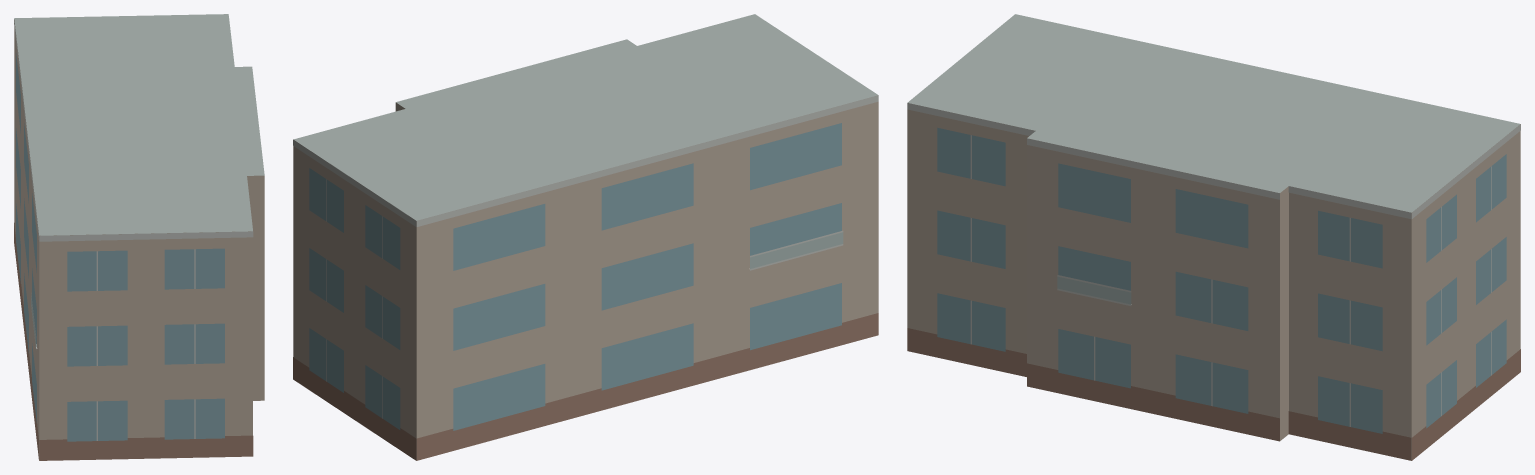
The model's file is survey-upis-32913197.glb.
The picture shows the model from 3 angles, left to right: view 1: azimuth 30°, elevation 25°; view 2: azimuth 150°, elevation 25°; view 3: azimuth 270°, elevation 25°; orthographic projection. The views are drawn at different scales.
Visible parts, largest first — view 1: survey-upis-32913197.tmp; view 2: survey-upis-32913197.tmp; view 3: survey-upis-32913197.tmp.
Boxes of the visible parts, x1=… form: survey-upis-32913197.tmp: x1=14, y1=14, x2=264, y2=460; survey-upis-32913197.tmp: x1=293, y1=14, x2=878, y2=460; survey-upis-32913197.tmp: x1=907, y1=14, x2=1520, y2=460.
Bounding box in the file's own units: 15.72 × 9.15 × 20.5.
